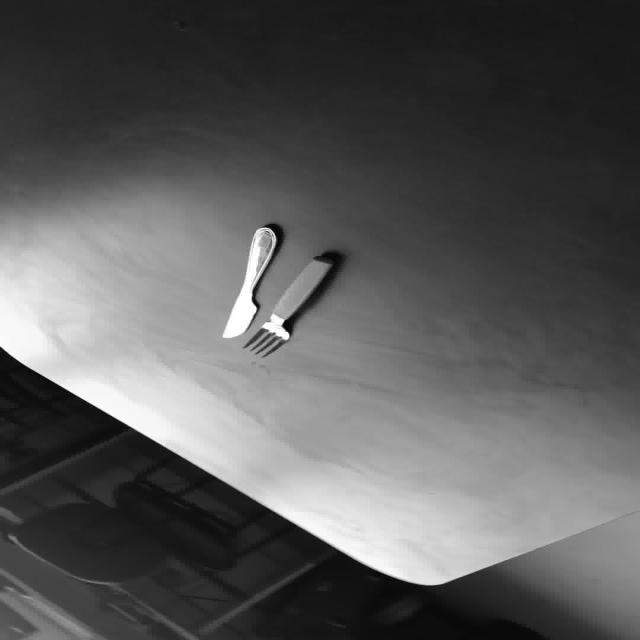fork: (241, 254, 334, 357), (220, 226, 277, 338)
knife fork: (220, 226, 277, 338)
